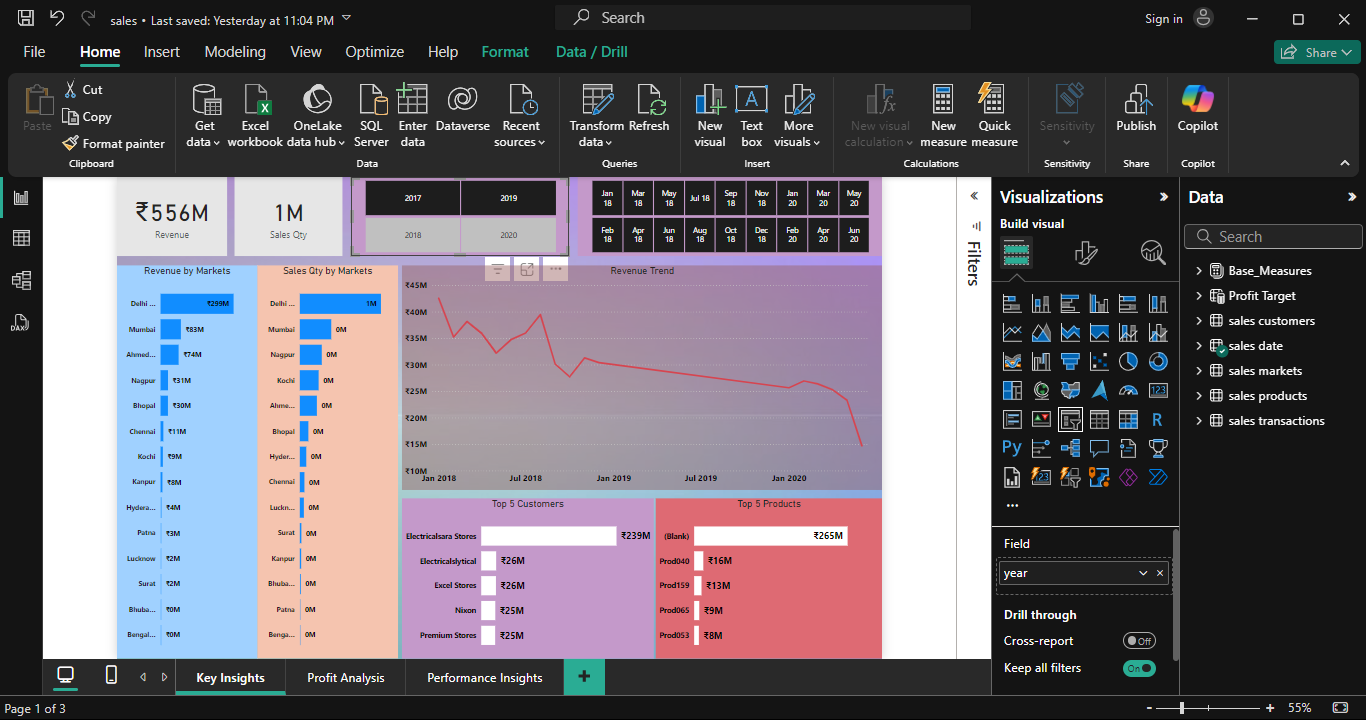

The page's visual inventory and layout, read from the dashboard file:
{"tool":"powerbi","page":{"name":"Key Insights","canvas":[1350,850],"ordinal":0},"visuals":[{"type":"card","fields":{"Values":["BaseMeasures (2).Revenue"]},"box":[0,0,194.5,139.4],"z":0},{"type":"card","fields":{"Values":["BaseMeasures (2).Sales Qty"]},"box":[207.3,0,190.8,139.4],"z":1000},{"type":"barChart","title":"Revenue by Markets","fields":{"Y":["BaseMeasures (2).Revenue"],"Category":["sales markets.markets_name"]},"box":[0,155.9,247.7,693.5],"z":2000},{"type":"barChart","title":"Sales Qty by Markets","fields":{"Y":["BaseMeasures (2).Sales Qty"],"Category":["sales markets.markets_name"]},"box":[247.7,155.9,247.7,693.5],"z":3000},{"type":"slicer","fields":{"Values":["sales date.year"]},"box":[412.8,0,385.3,139.4],"z":4000},{"type":"slicer","fields":{"Values":["sales date.cy_date"]},"box":[812.7,0,537.5,139.4],"z":5000},{"type":"barChart","title":"Top 5 Customers","fields":{"Y":["BaseMeasures (2).Revenue"],"Category":["sales customers.custmer_name"]},"box":[502.7,566.9,444,282.5],"z":6000},{"type":"barChart","title":"Top 5 Products","fields":{"Y":["BaseMeasures (2).Revenue"],"Category":["sales products.product_code"]},"box":[950.3,566.9,399.9,282.5],"z":7000},{"type":"lineChart","title":"Revenue Trend","fields":{"Y":["BaseMeasures (2).Revenue"],"Category":["sales date.cy_date"]},"box":[502.7,155.9,847.6,396.3],"z":8000}]}

Visuals, with their boxes on the page's 1350x850 design canvas (x1, y1, x2, y2). These are canvas units, not pixel positions in the 1366x720 screenshot, which may show the page scaled, cropped or inside an application window:
card - BaseMeasures (2).Revenue: {"x1": 0, "y1": 0, "x2": 194, "y2": 139}
card - BaseMeasures (2).Sales Qty: {"x1": 207, "y1": 0, "x2": 398, "y2": 139}
"Revenue by Markets" barChart: {"x1": 0, "y1": 156, "x2": 248, "y2": 849}
"Sales Qty by Markets" barChart: {"x1": 248, "y1": 156, "x2": 495, "y2": 849}
slicer - sales date.year: {"x1": 413, "y1": 0, "x2": 798, "y2": 139}
slicer - sales date.cy_date: {"x1": 813, "y1": 0, "x2": 1350, "y2": 139}
"Top 5 Customers" barChart: {"x1": 503, "y1": 567, "x2": 947, "y2": 849}
"Top 5 Products" barChart: {"x1": 950, "y1": 567, "x2": 1350, "y2": 849}
"Revenue Trend" lineChart: {"x1": 503, "y1": 156, "x2": 1350, "y2": 552}
